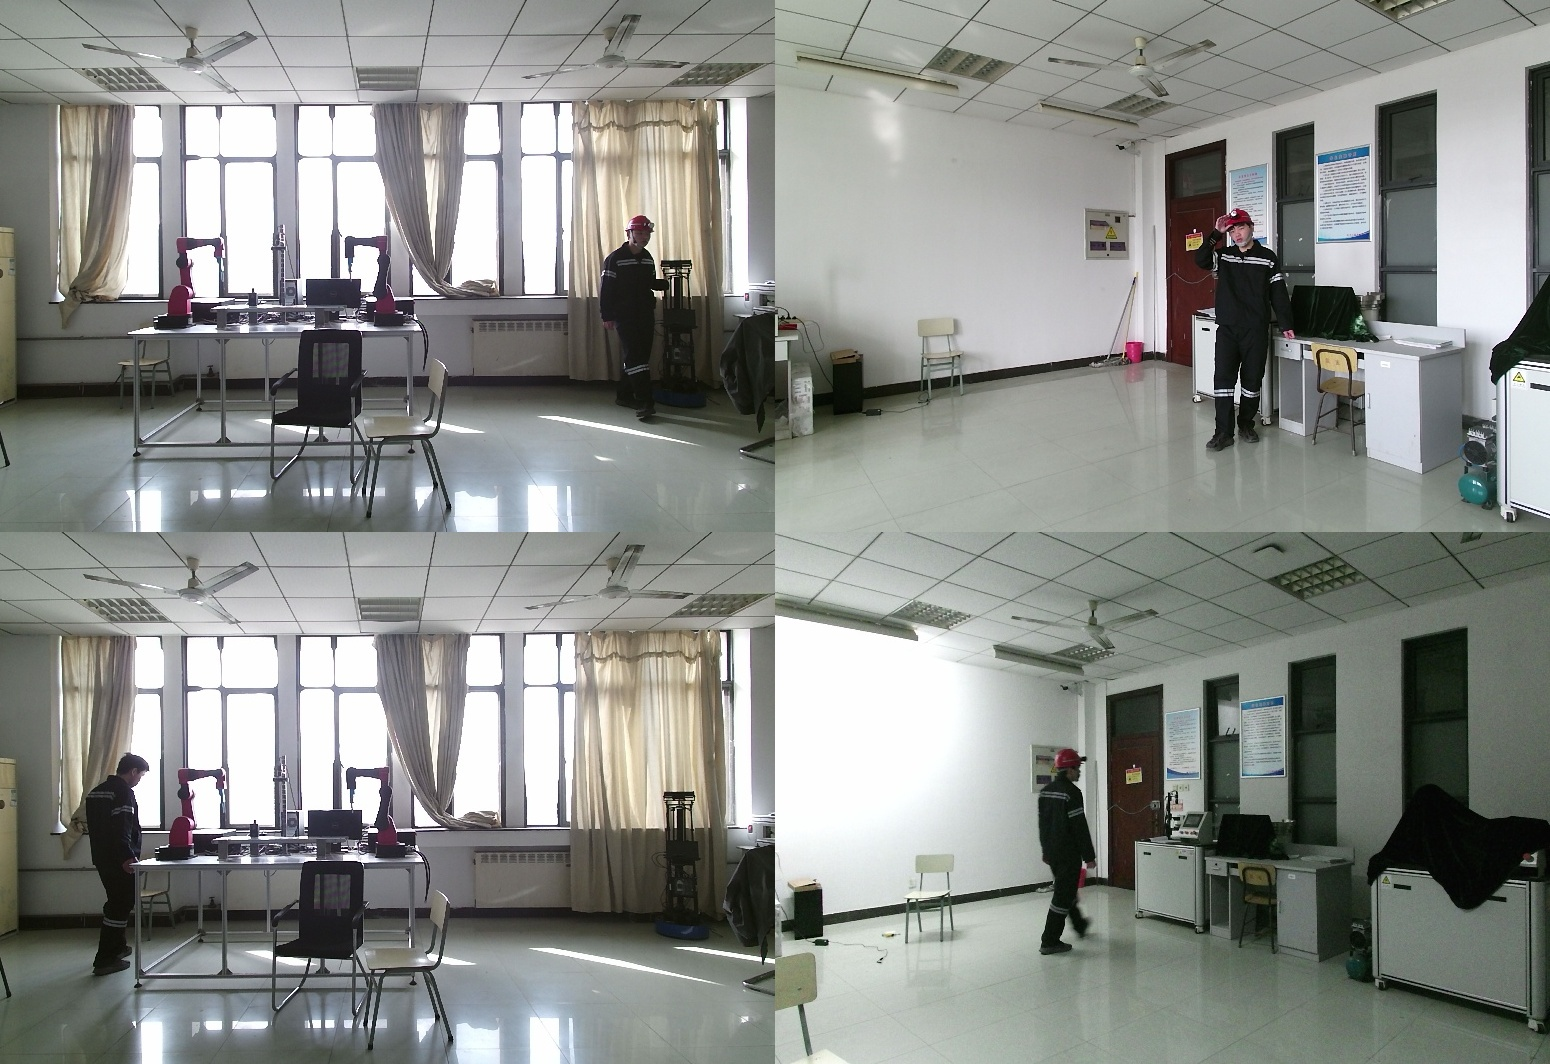person: (1198, 209, 1300, 453), (599, 215, 672, 422), (83, 755, 150, 977), (1034, 750, 1101, 960)
